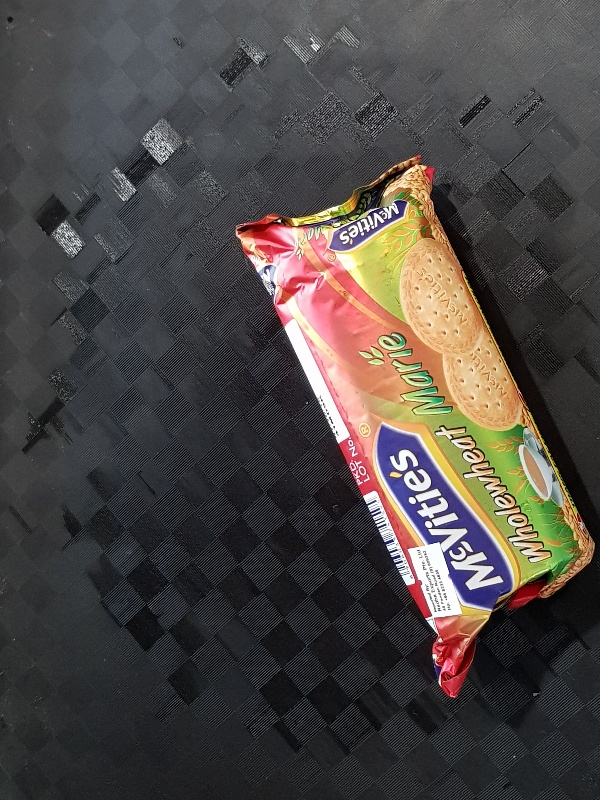McVitie's Wholewheat Marie: (235, 150, 599, 697)
